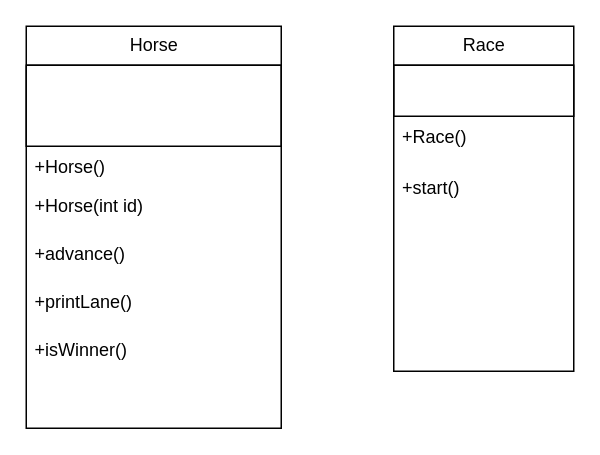
Image size: 600x455. Some labels were removed from this diagram. Here are the shapes that lost their labels. From the top down, the centre of each, then its label:
(153,105): -int id -int position
(483,90): -horses[]
